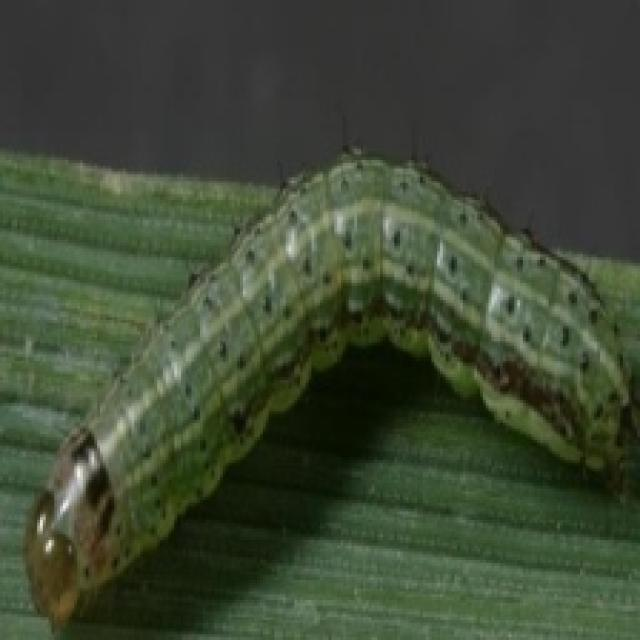Plaga: (7, 130, 639, 639)
